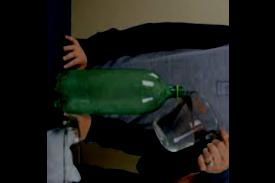Plastic: (52, 66, 186, 114)
